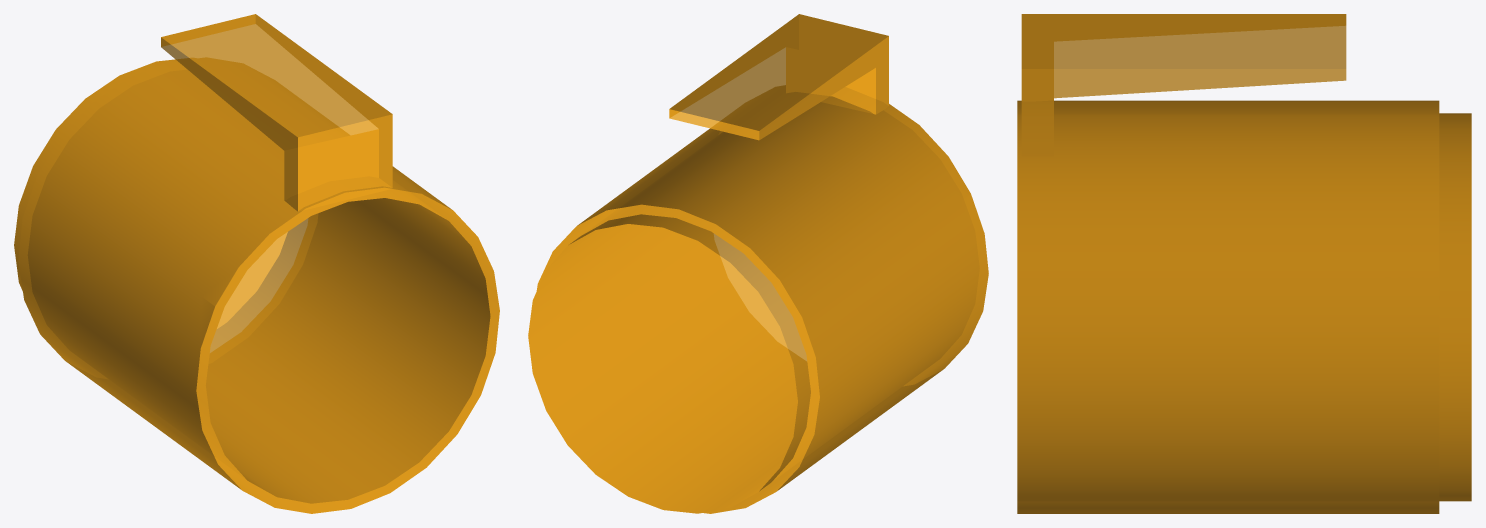
File: model_align.obj
The picture shows the model from 3 angles, left to right: view 1: azimuth 30°, elevation 25°; view 2: azimuth 150°, elevation 25°; view 3: azimuth 270°, elevation 25°; orthographic projection. The views are drawn at different scales.
Visible parts, largest first — view 1: mesh1_mesh1-geometry, mesh2_mesh2-geometry; view 2: mesh1_mesh1-geometry, mesh2_mesh2-geometry; view 3: mesh1_mesh1-geometry, mesh2_mesh2-geometry.
Boxes of the visible parts, x1,y1,x2,y2 form: mesh1_mesh1-geometry: [14, 58, 499, 513]; mesh2_mesh2-geometry: [161, 14, 392, 211]; mesh1_mesh1-geometry: [528, 85, 988, 513]; mesh2_mesh2-geometry: [669, 14, 888, 140]; mesh1_mesh1-geometry: [1017, 100, 1471, 513]; mesh2_mesh2-geometry: [1021, 14, 1346, 156].
Size of the model in its own units: 0.0873 by 0.1051 by 0.0955.
